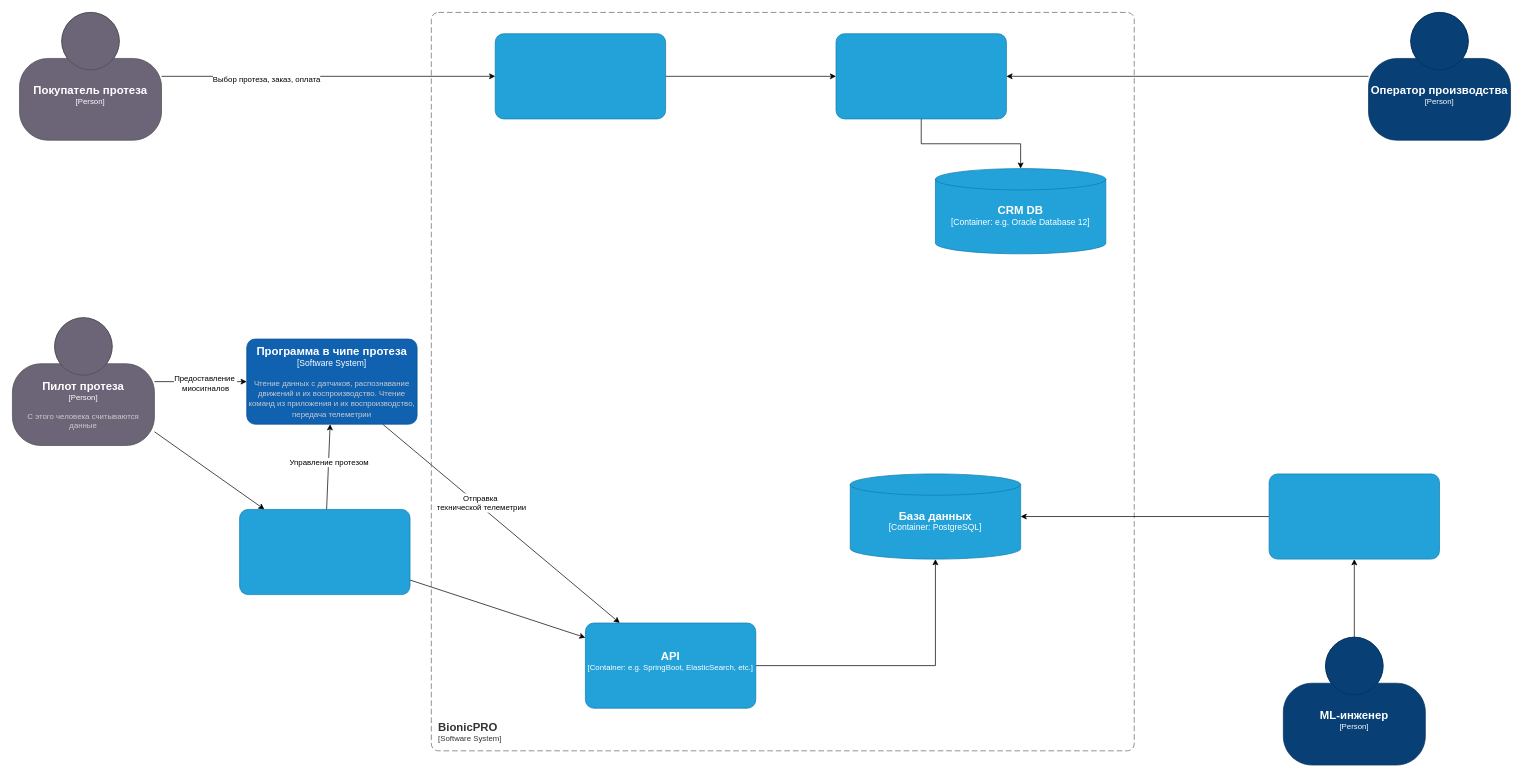
This 1523x777 diagram has some shape labels left out. Each missing label, with the box of its shape:
cli tool [Container: e.g. SpringBoot, ElasticSearch, etc.]: (1268, 473, 1440, 559)
CRM [Container: Битрикс24]: (835, 33, 1006, 119)
Интернет-магазин [Container: Битрикс24]: (495, 33, 666, 119)
Приложение для донастройки протеза [Container: iOD, Android]: (239, 509, 410, 595)
